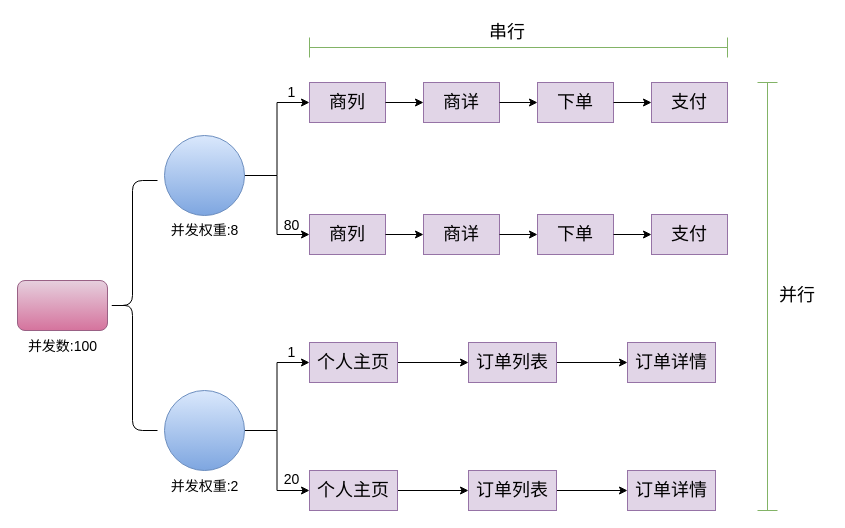
Some shapes in this 845 by 528 pixel diagram are drawn without their labels. The shapes that lost their labels are listed below. From the top down, each one's box as (x1, y1, x2, y2) in pixels, then its label:
(164, 134, 244, 216): 子场景A
(16, 280, 108, 330): 场景
(164, 390, 244, 470): 子场景B
